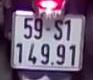1: (15, 41, 27, 65), (68, 44, 78, 65), (63, 17, 71, 43)
4: (27, 41, 39, 65)
5: (21, 17, 34, 39)
9: (39, 41, 51, 65), (56, 42, 67, 66), (34, 17, 45, 40)
S: (53, 17, 64, 43)
